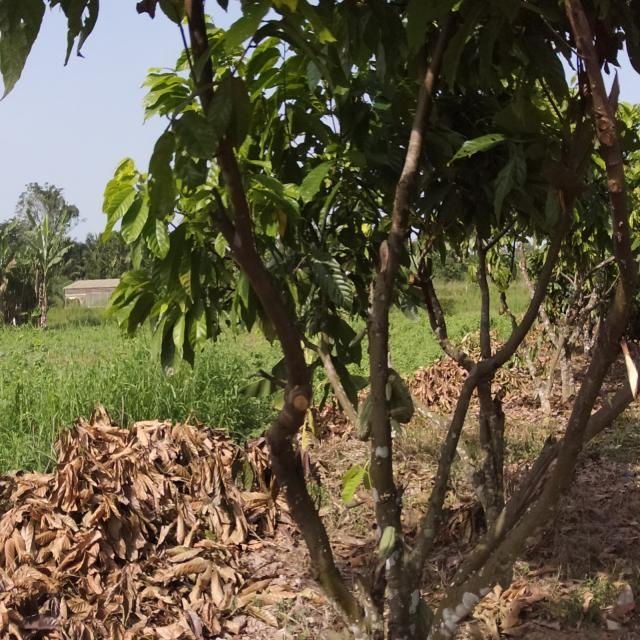Immature: (371, 522, 405, 556)
Mature_Unripe: (384, 364, 430, 448)
